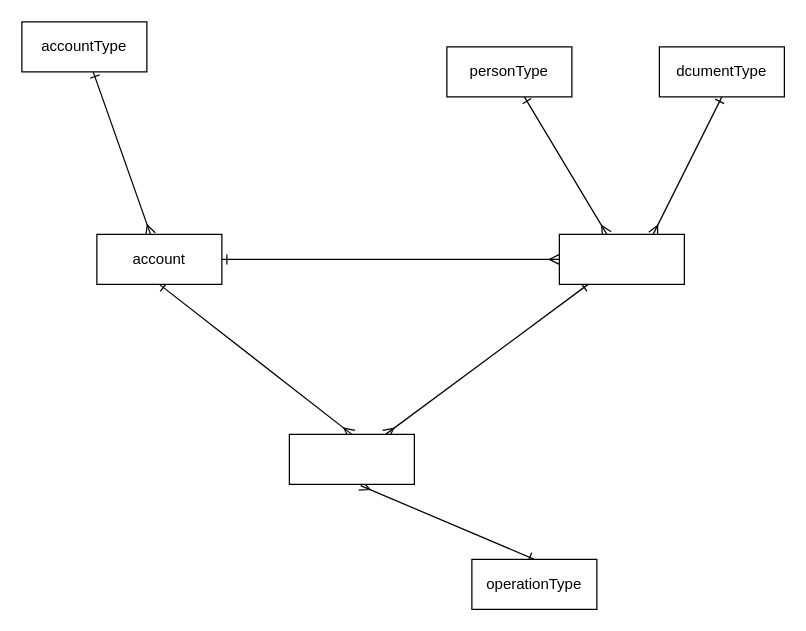
The diagram is 806 pixels wide and 631 high, and some of its shapes have lost their labels. The shapes that lost their labels are listed below. From the top down, each one's centre as x and y in pixels, then its label:
point 621,258: person
point 351,458: movement
